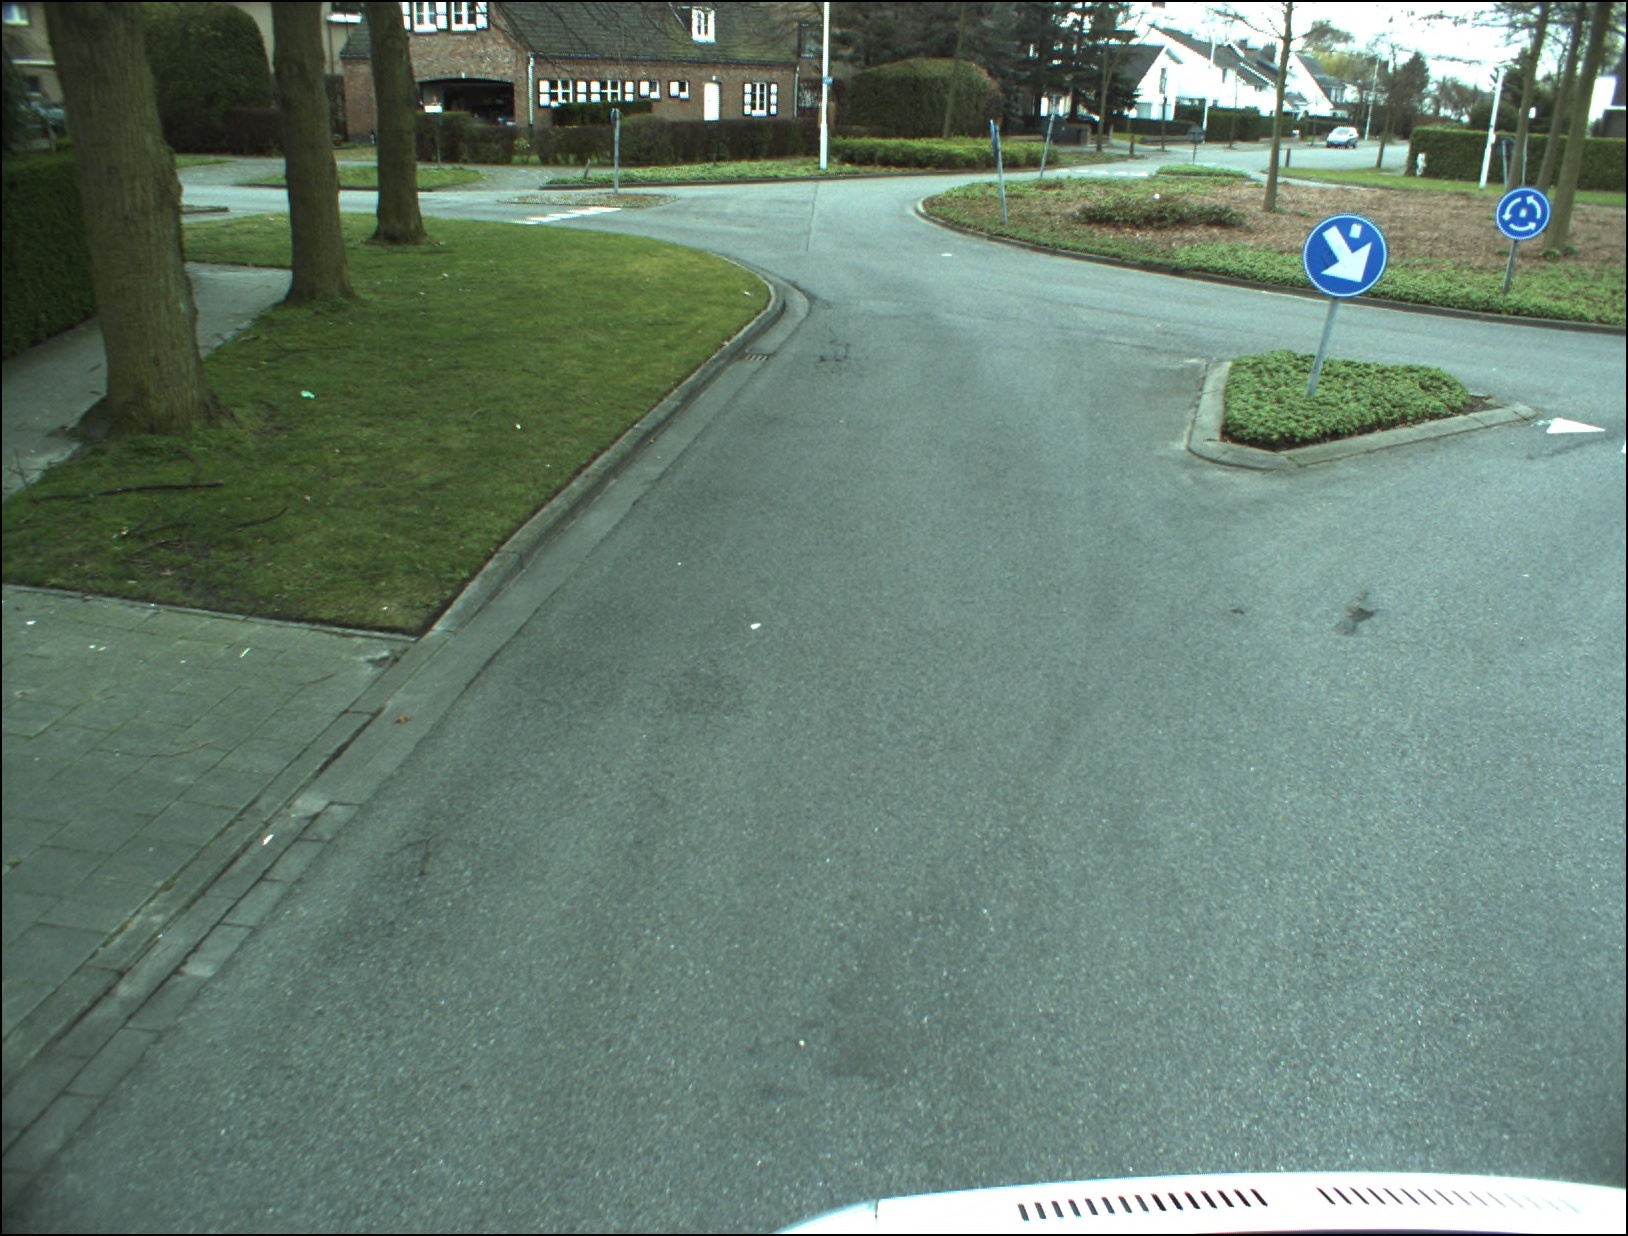passright: (1303, 214, 1384, 297)
roundabout: (1497, 188, 1550, 241)
